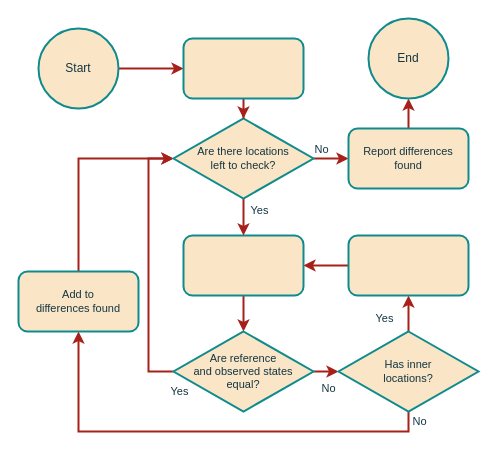
Some shapes in this 496 by 457 pixel diagram are drawn without their labels. The centre of each missing label's shape, as x and y in pixels:
"Check next location" belongs at point 243,265.
"Get locations from reference state" belongs at point 243,68.
"Go down one location level" belongs at point 408,265.
